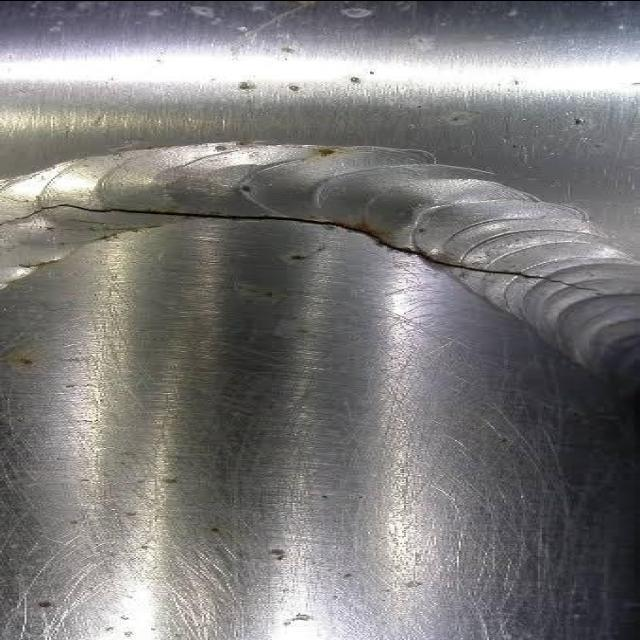Crack: (0, 200, 617, 296)
